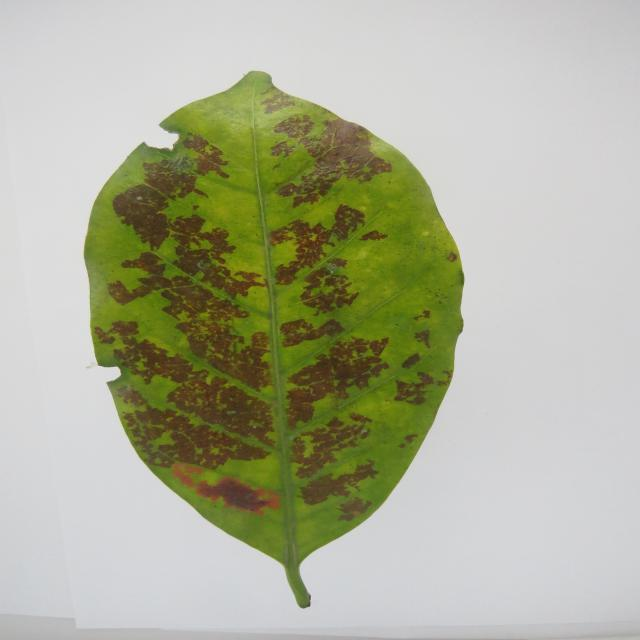DeficienciaNutricional-Potasio: (85, 71, 463, 608)
